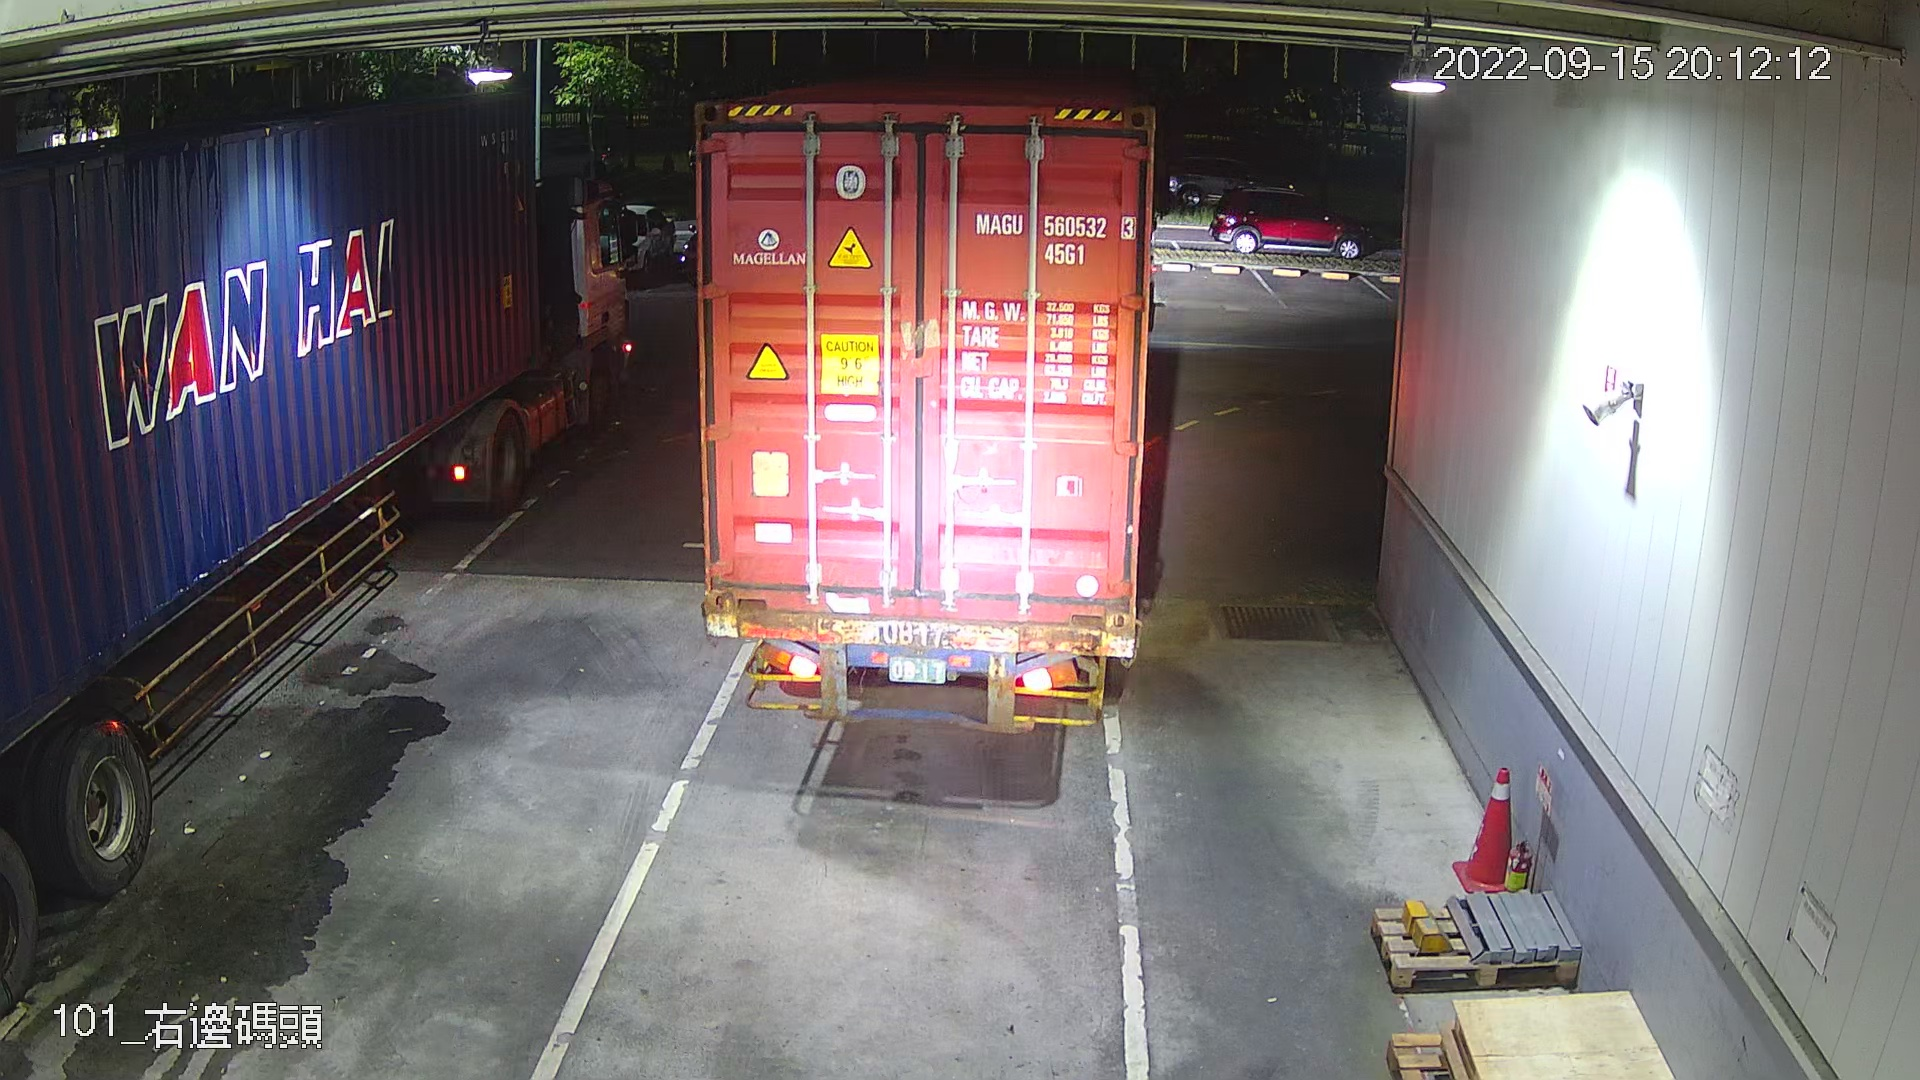container: (969, 199, 1139, 276)
